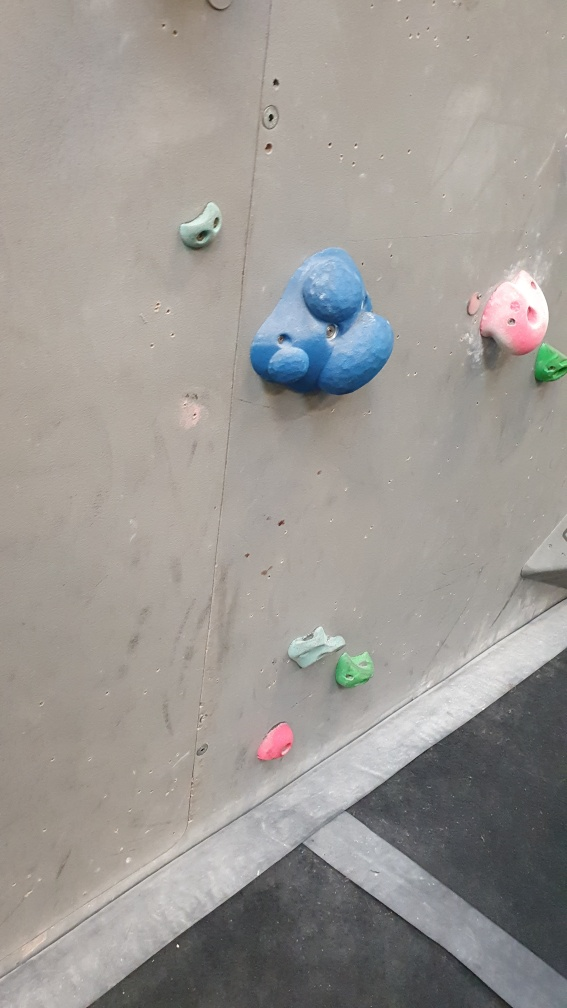Sloper: (250, 240, 396, 402)
